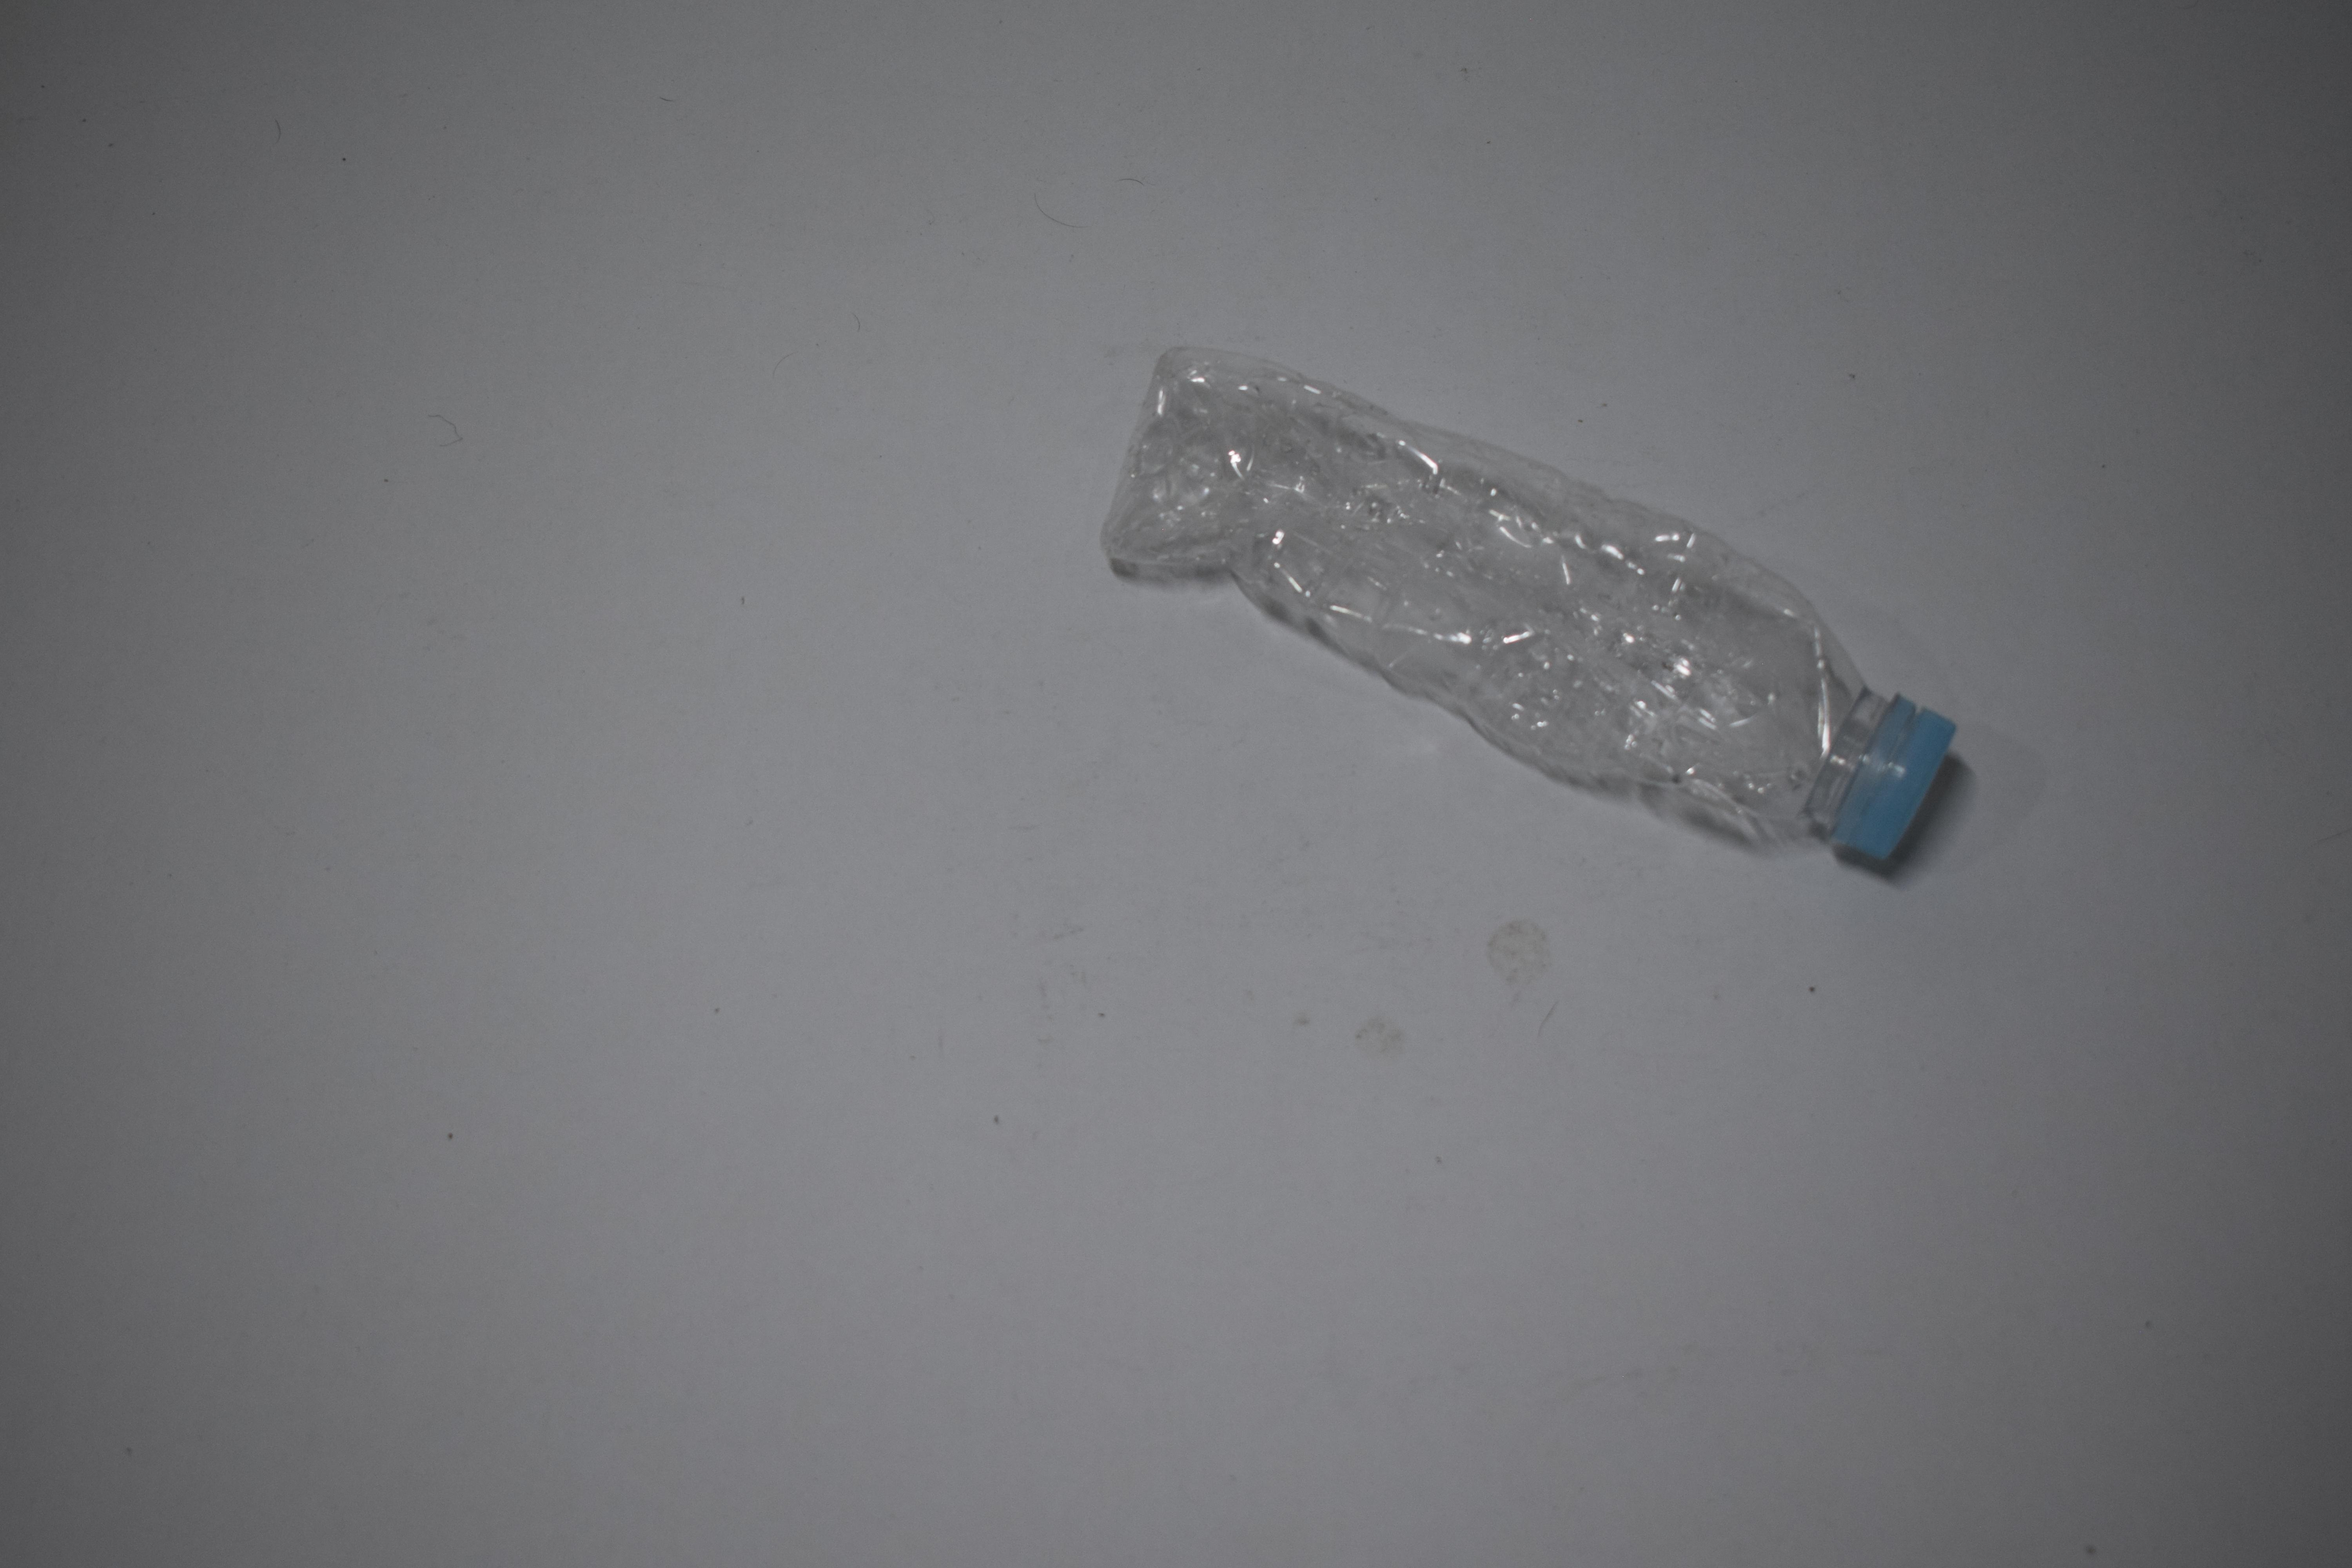bottle: (976, 369, 1855, 851)
